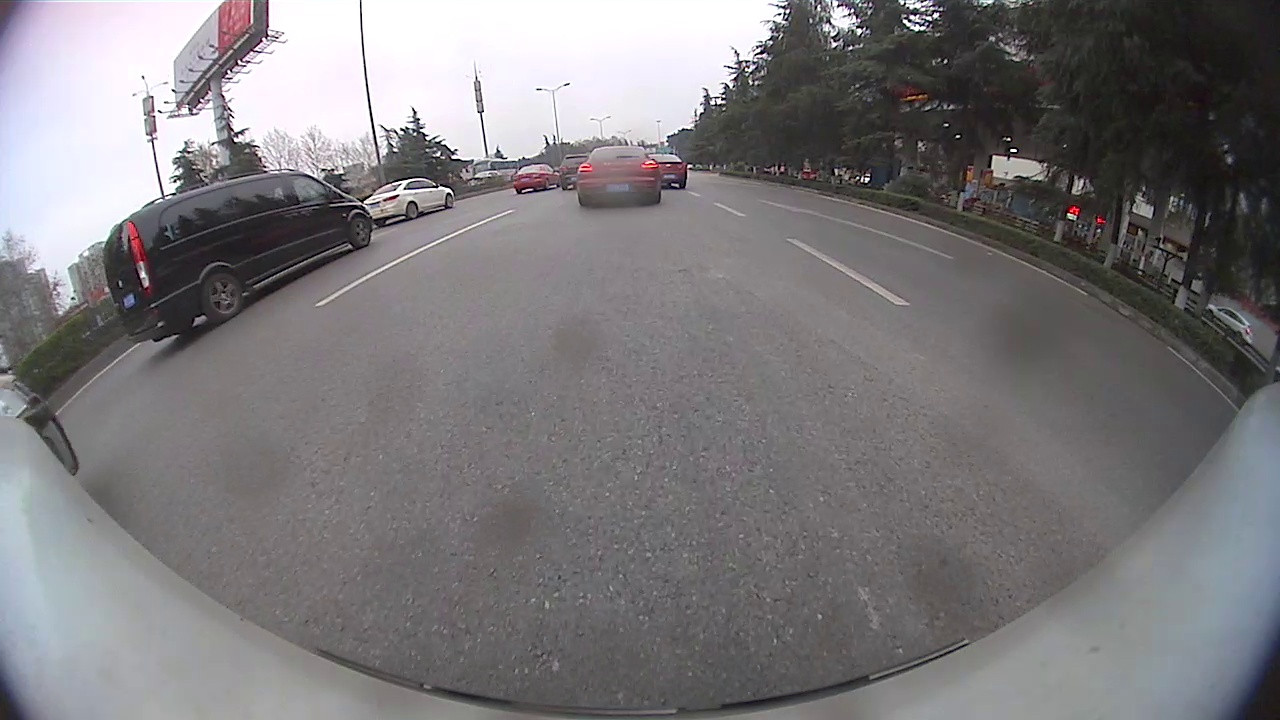car: (101, 168, 374, 346), (2, 372, 77, 475), (578, 142, 665, 206), (361, 176, 454, 226), (649, 153, 689, 190), (514, 163, 557, 192)
front: (346, 208, 372, 249), (444, 193, 454, 211)
rear: (202, 271, 243, 322), (406, 201, 419, 220)
